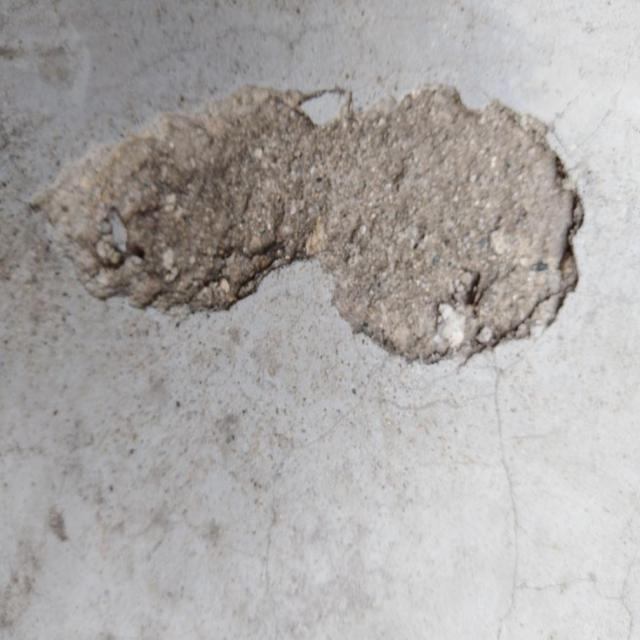concrete spalling: (30, 81, 585, 366)
diagonal crack: (572, 36, 640, 158)
horizontal crack: (123, 0, 379, 83)
multi-branched crack: (218, 370, 492, 640)
vertical crack: (492, 354, 638, 637)
